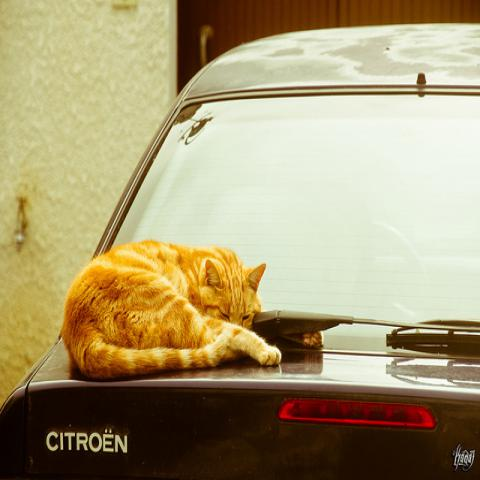car: (0, 21, 479, 474)
